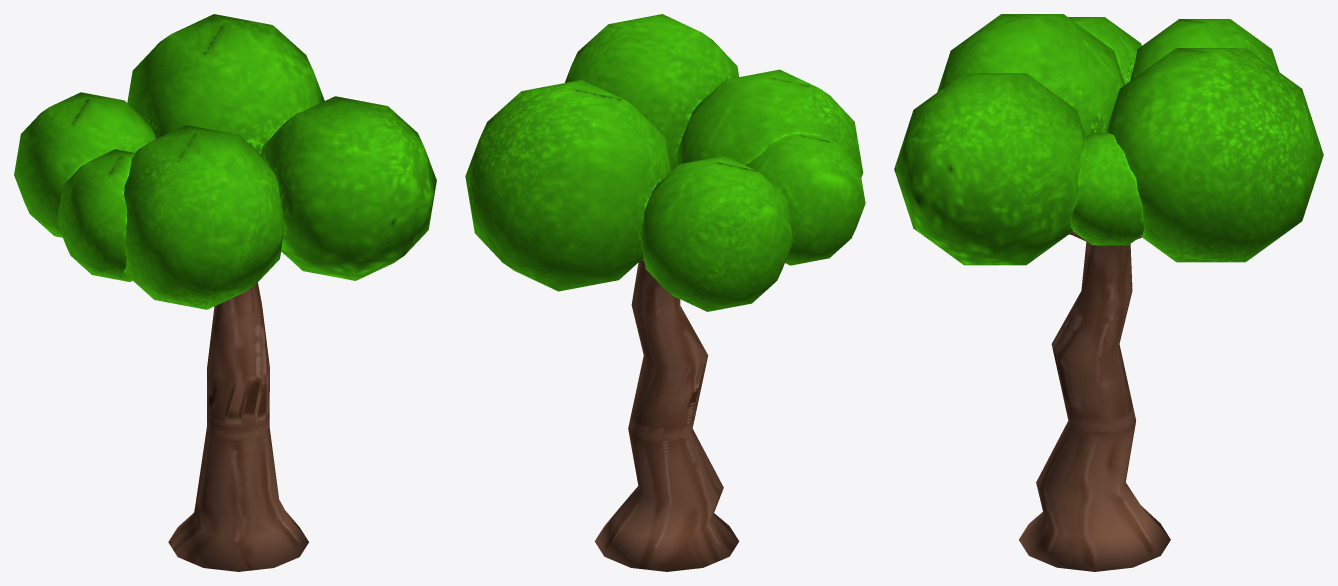
The model's file is tree1.fbx.
The picture shows the model from 3 angles, left to right: view 1: azimuth 30°, elevation 25°; view 2: azimuth 150°, elevation 25°; view 3: azimuth 270°, elevation 25°; orthographic projection. The views are drawn at different scales.
Parts seen in each view (by area): view 1: trunk; view 2: trunk; view 3: trunk.
Part boxes in pixels (x1=…): trunk: x1=14, y1=14, x2=436, y2=571; trunk: x1=465, y1=14, x2=865, y2=571; trunk: x1=894, y1=14, x2=1323, y2=571.
Size of the model in its own units: 690 by 985 by 754.
